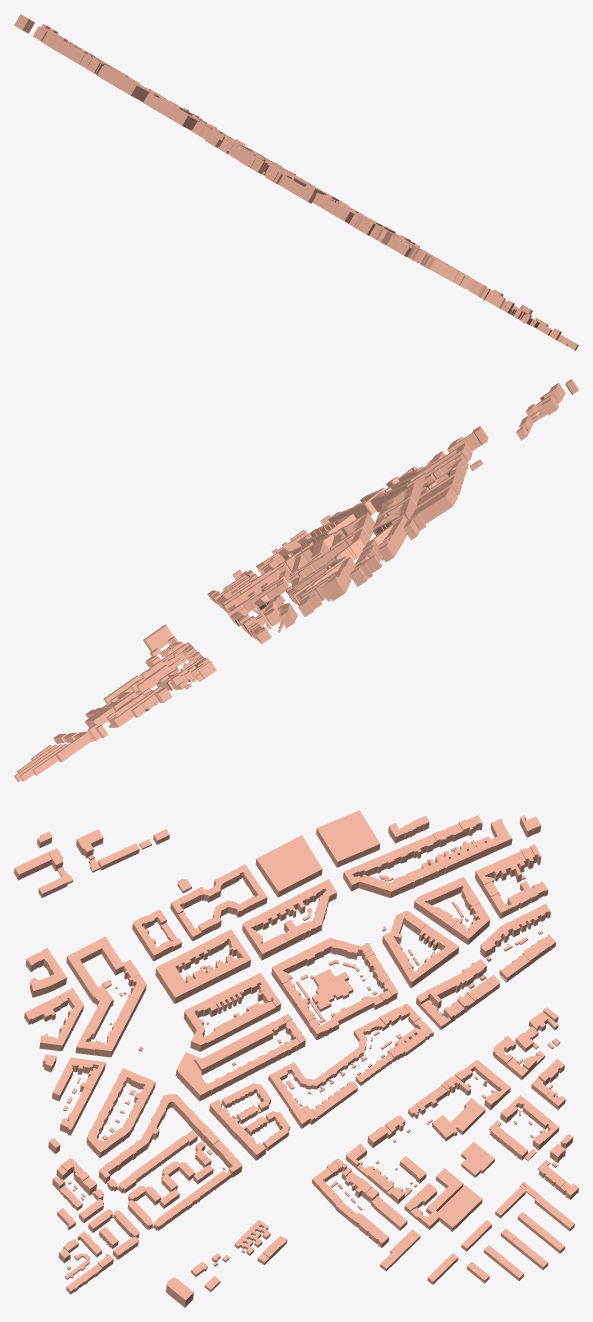
3 views of the same model, one above another, from view 1: azimuth 30°, elevation 25°; view 2: azimuth 150°, elevation 25°; view 3: azimuth 270°, elevation 25° (orthographic). The views are drawn at different scales.
Bounding box in the file's own units: 538 × 403 × 660.
